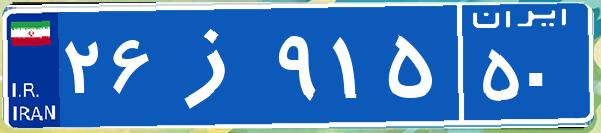0: (525, 38, 570, 115)
1: (330, 28, 385, 110)
2: (57, 26, 110, 107)
5: (385, 28, 445, 110), (475, 38, 525, 113)
6: (110, 28, 158, 105)
9: (273, 28, 330, 110)
ز: (158, 15, 273, 115)
